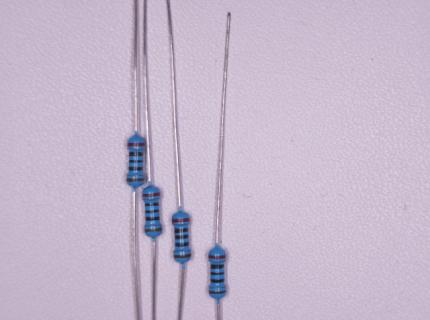Black band: (129, 151, 144, 157), (175, 234, 189, 240), (175, 242, 189, 248), (145, 216, 160, 221), (174, 228, 189, 233), (210, 265, 225, 270), (128, 166, 143, 171), (145, 209, 159, 214), (145, 202, 159, 207), (211, 272, 225, 276), (211, 279, 225, 283), (129, 160, 143, 163)
Brown band: (144, 228, 163, 233), (127, 178, 144, 183), (208, 290, 227, 294), (174, 254, 191, 258)
Red band: (127, 142, 146, 147), (142, 193, 161, 198), (171, 218, 190, 223), (208, 255, 227, 260)
